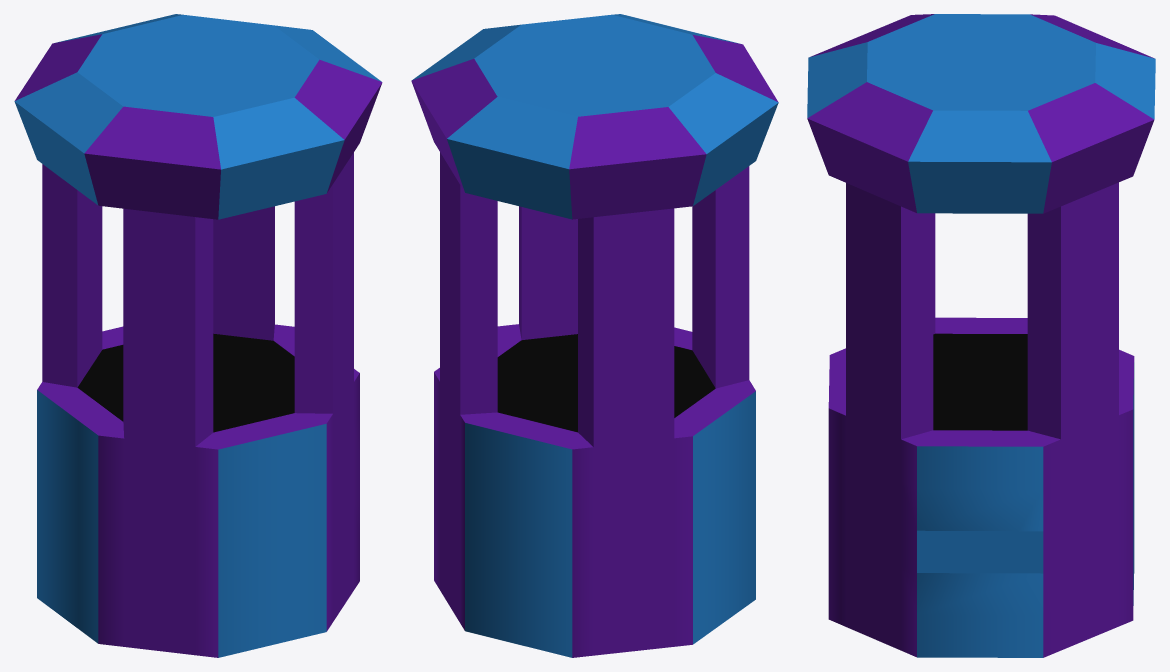
The model's file is Stall 3 Textured.FBX.
3 renders of one model, left to right at view 1: azimuth 30°, elevation 25°; view 2: azimuth 150°, elevation 25°; view 3: azimuth 270°, elevation 25°, orthographic.
Parts seen in each view (by area): view 1: Stall 3; view 2: Stall 3; view 3: Stall 3.
Part boxes in pixels (x1=…): Stall 3: x1=14, y1=14, x2=382, y2=657; Stall 3: x1=411, y1=14, x2=778, y2=657; Stall 3: x1=807, y1=14, x2=1155, y2=657.
Bounding box in the file's own units: 9.53 × 16.02 × 9.53.
4 materials, 3 textured.
